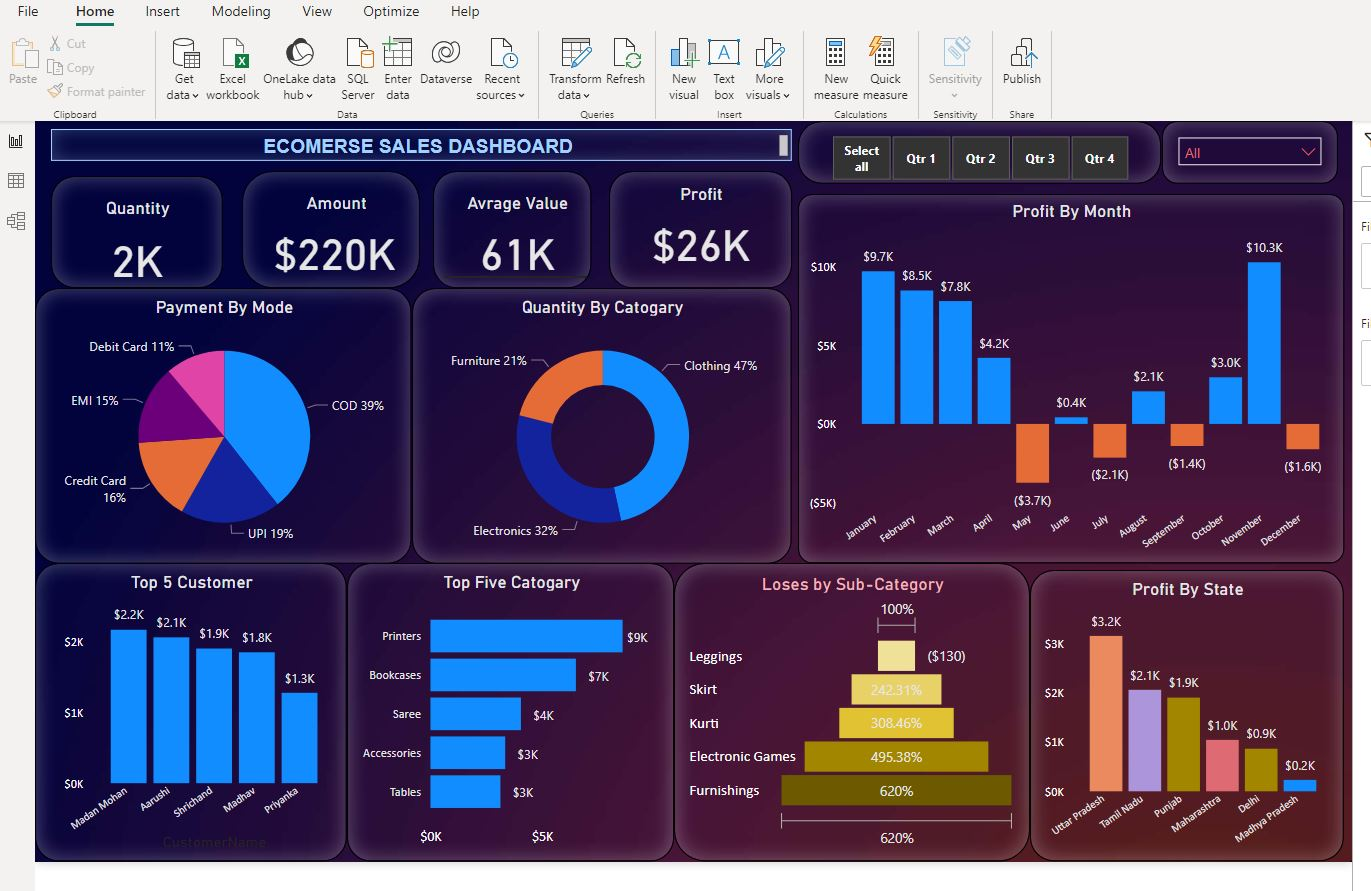

This screenshot's page, from the dashboard's own definition file:
{"tool":"powerbi","page":{"name":"Page 1","canvas":[1280,720],"ordinal":0},"visuals":[{"type":"textbox","box":[15.3,7.7,719.9,30.6],"z":0},{"type":"clusteredColumnChart","title":"Profit By Month","fields":{"Category":["Orders.Order Date.Variation.Date Hierarchy.Month"],"Y":["Sum(Details.Profit)"]},"box":[741.7,71.1,530.6,358.8],"z":1000},{"type":"clusteredBarChart","title":"Top Five Catogary","fields":{"Category":["Details.Sub-Category"],"Y":["Sum(Details.Profit)"]},"box":[303,429.9,318.4,289.9],"z":2000},{"type":"donutChart","title":"Quantity By Catogary","fields":{"Y":["Sum(Details.Quantity)"],"Category":["Details.Category"]},"box":[366.5,161.9,368.7,268],"z":3000},{"type":"pieChart","title":"Payment By Mode","fields":{"Y":["Sum(Details.Quantity)"],"Category":["Details.PaymentMode"]},"box":[0,161.9,366.5,268],"z":4000},{"type":"cardVisual","title":"Amount","fields":{"Data":["Sum(Details.Amount)"]},"box":[201.1,48.3,173,114.1],"z":5000},{"type":"cardVisual","title":"Profit","fields":{"Data":["Sum(Details.Profit)"]},"box":[557.9,48.6,177.9,113.7],"z":6000},{"type":"cardVisual","title":"Quantity","fields":{"Data":["Sum(Details.Quantity)"]},"box":[15.8,53.6,166.8,108.9],"z":7000},{"type":"cardVisual","title":"Avrage Value","fields":{"Data":["Sum(Details.AOV)"]},"box":[386.8,48.6,153.6,113.7],"z":8000},{"type":"slicer","fields":{"Values":["Orders.Order Date.Variation.Date Hierarchy.Quarter"]},"box":[741.7,0,353.4,61.3],"z":9000},{"type":"clusteredColumnChart","title":"Top 5 Customer","fields":{"Category":["Orders.CustomerName"],"Y":["Sum(Details.Profit)"]},"box":[0,429.9,303,289.9],"z":10000},{"type":"clusteredColumnChart","title":"Profit By State","fields":{"Y":["Sum(Details.Profit)"],"Category":["Orders.State"]},"box":[967.1,436.5,305.2,283.4],"z":11000},{"type":"slicer","fields":{"Values":["Orders.State"]},"box":[1095.1,0,170.7,61.3],"z":12000},{"type":"funnel","title":"Loses by Sub-Category","fields":{"Category":["Details.Sub-Category"],"Y":["Sum(Details.Profit)"]},"box":[621.4,429.9,345.7,289.9],"z":13000}]}

Visuals, with their boxes on the page's 1280x720 design canvas (x1, y1, x2, y2). These are canvas units, not pixel positions in the 1371x891 screenshot, which may show the page scaled, cropped or inside an application window:
textbox: 15:8:735:38
"Profit By Month" clusteredColumnChart: 742:71:1272:430
"Top Five Catogary" clusteredBarChart: 303:430:621:720
"Quantity By Catogary" donutChart: 366:162:735:430
"Payment By Mode" pieChart: 0:162:366:430
"Amount" cardVisual: 201:48:374:162
"Profit" cardVisual: 558:49:736:162
"Quantity" cardVisual: 16:54:183:162
"Avrage Value" cardVisual: 387:49:540:162
slicer - Orders.Order Date.Variation.Date Hierarchy.Quarter: 742:0:1095:61
"Top 5 Customer" clusteredColumnChart: 0:430:303:720
"Profit By State" clusteredColumnChart: 967:436:1272:720
slicer - Orders.State: 1095:0:1266:61
"Loses by Sub-Category" funnel: 621:430:967:720
